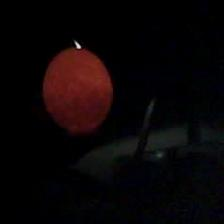infertile: (40, 44, 113, 134)
